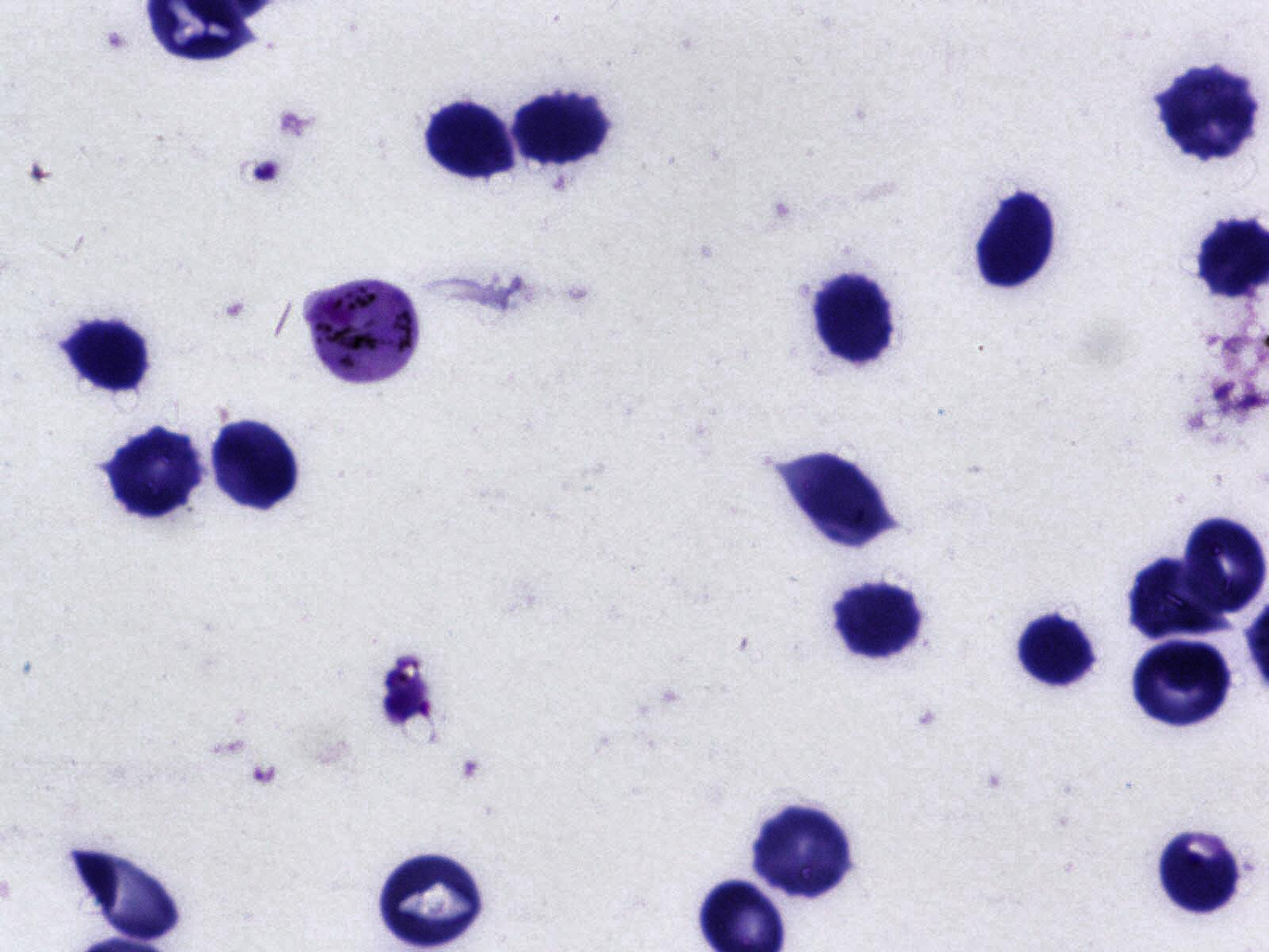Infected: (308, 281, 420, 384)
Uninfected: (376, 850, 489, 950), (1155, 63, 1259, 159), (779, 458, 891, 547), (75, 852, 179, 941), (1134, 639, 1235, 730), (105, 428, 209, 516), (753, 807, 853, 897), (1184, 512, 1267, 613), (1129, 559, 1225, 643), (211, 420, 298, 510), (514, 91, 611, 171), (977, 190, 1053, 290), (832, 578, 924, 660), (814, 274, 895, 365), (1156, 827, 1240, 914), (427, 104, 513, 185), (65, 317, 153, 396), (1018, 612, 1095, 685)
